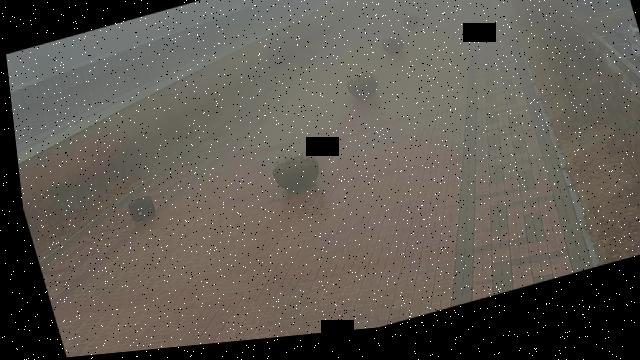bag: (120, 195, 151, 225)
